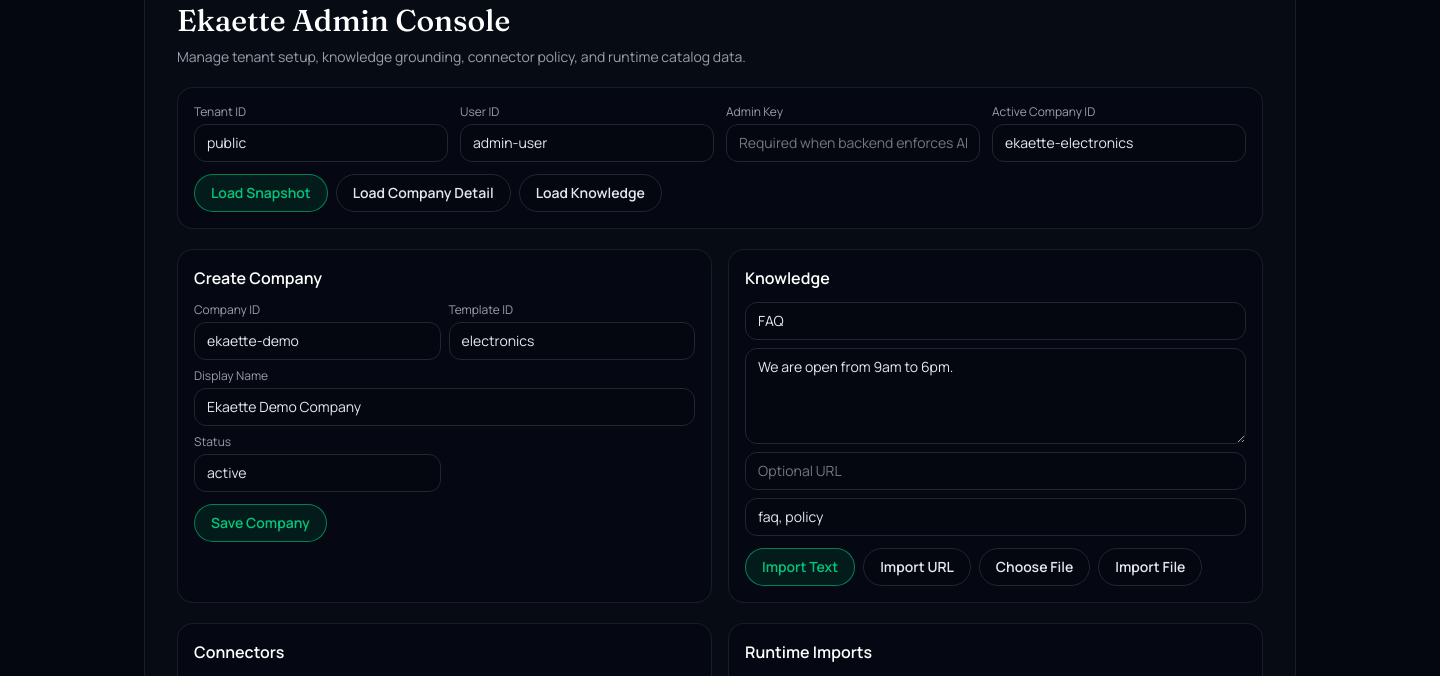
AdminDashboard › loads companies and providers snapshot
Click the button "Load Snapshot" at (261, 194), box x1=194 y1=174 x2=328 y2=212
(page scrolled)
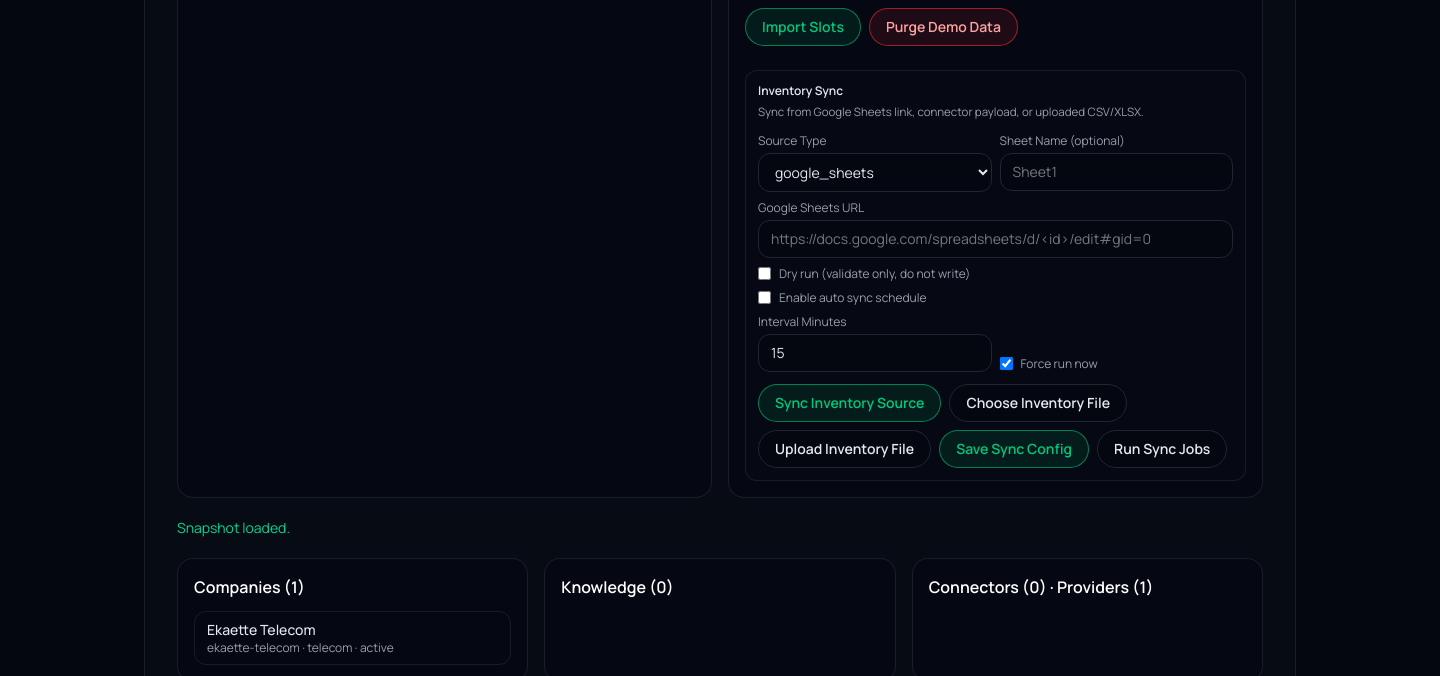
Expected: the text "Snapshot loaded." is shown, x1=177 y1=518 x2=290 y2=537
Expected: the heading "Companies (1)" is shown, x1=194 y1=576 x2=305 y2=598
Expected: the text "Ekaette Telecom" is shown, x1=207 y1=620 x2=316 y2=639
